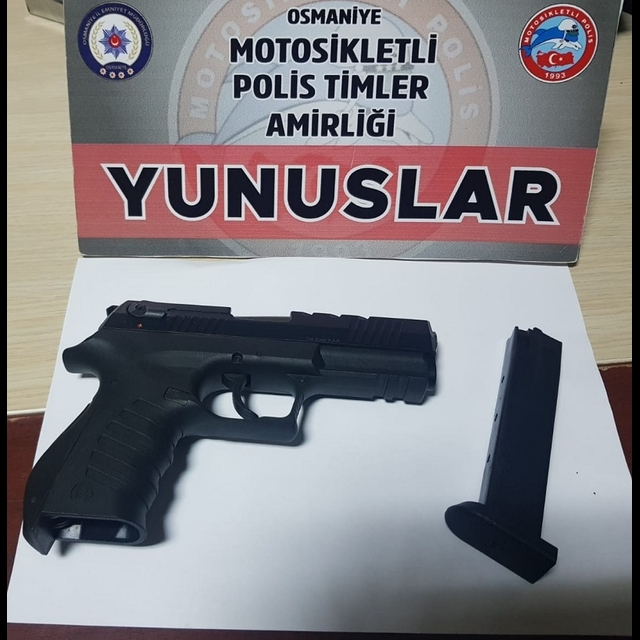SILAH: (24, 275, 442, 582)
